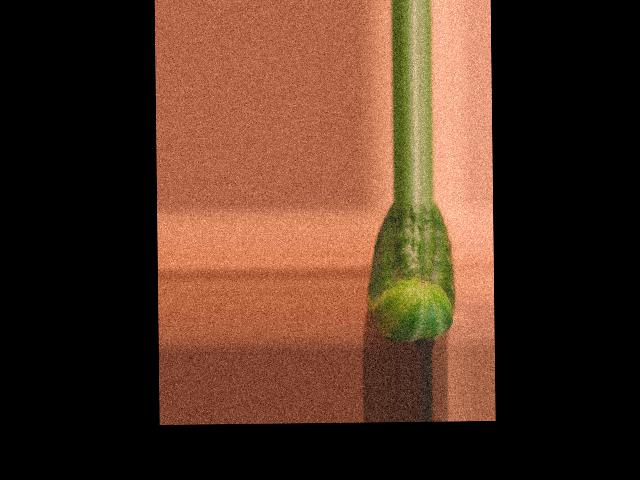cucumber: (366, 201, 456, 341)
